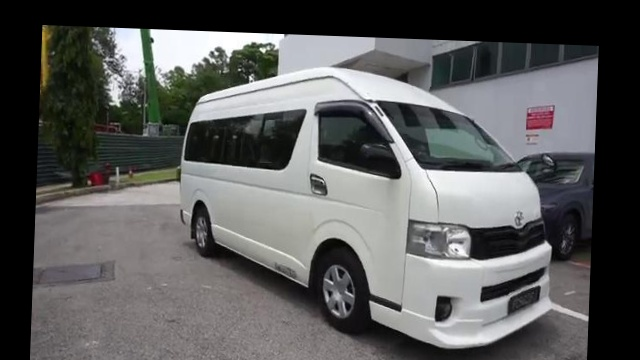van: (170, 60, 568, 358)
